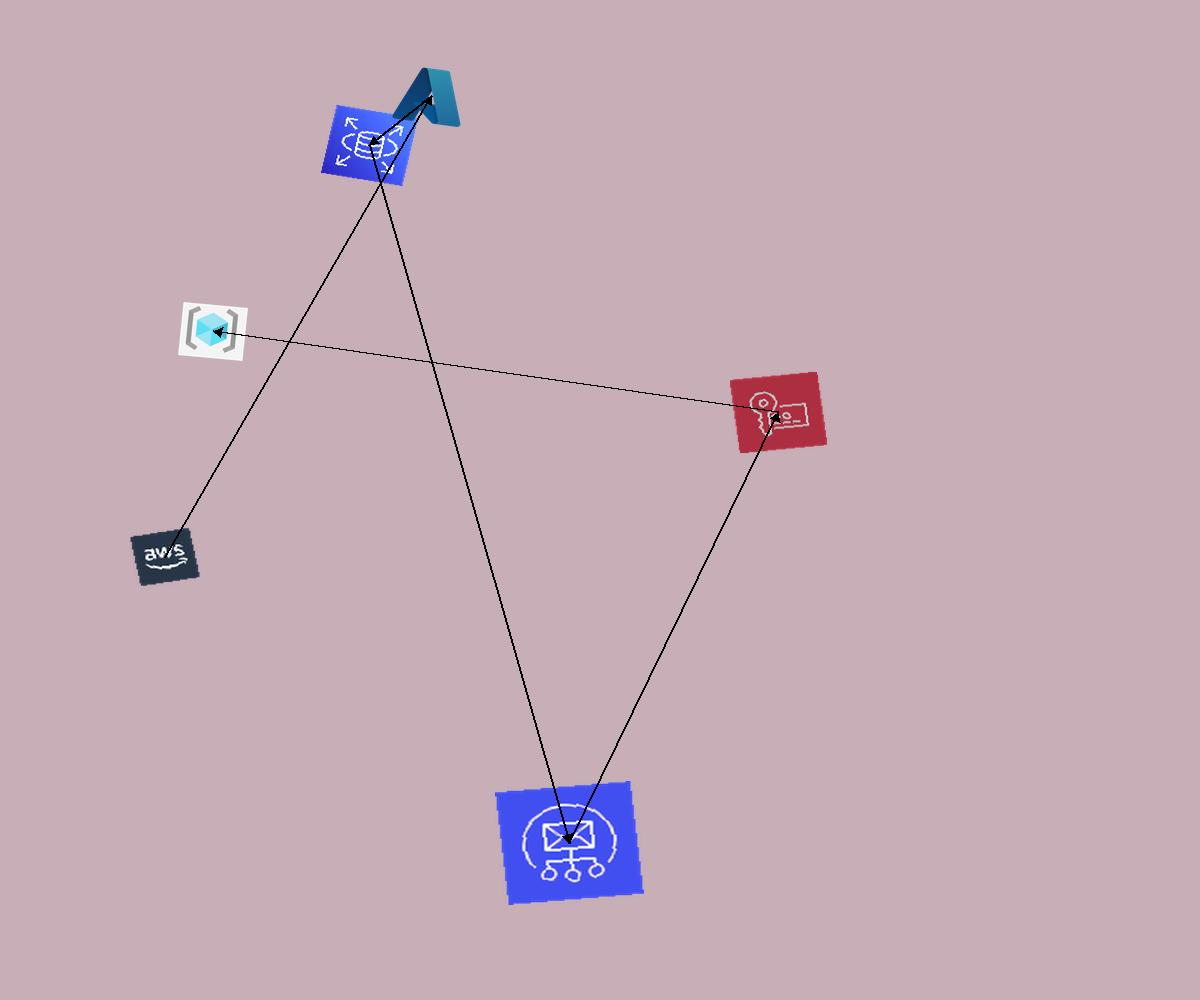AWS-Cloud-logo: (129, 527, 201, 587)
AWS-Key-Management-Service: (729, 371, 828, 454)
AWS-RDS: (321, 105, 418, 186)
AWS-Simple-Email-Service: (495, 781, 644, 905)
Azure_resource_group: (178, 302, 248, 361)
Azure_services: (388, 60, 474, 132)
